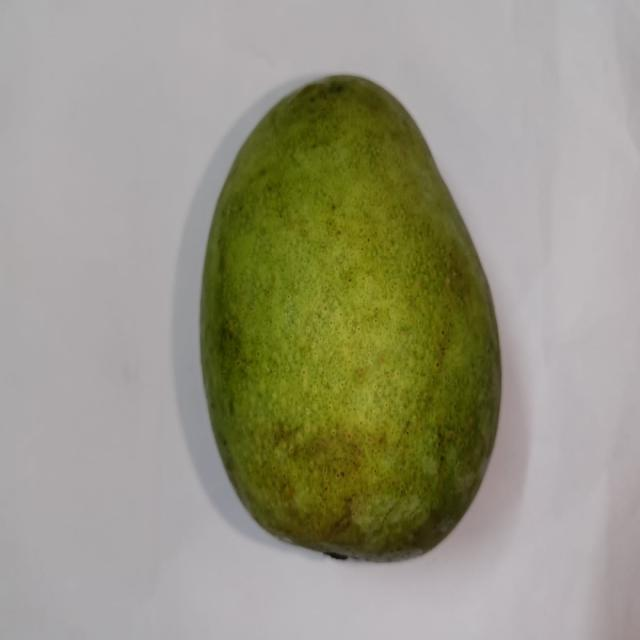fresh_mango: (198, 70, 502, 564)
